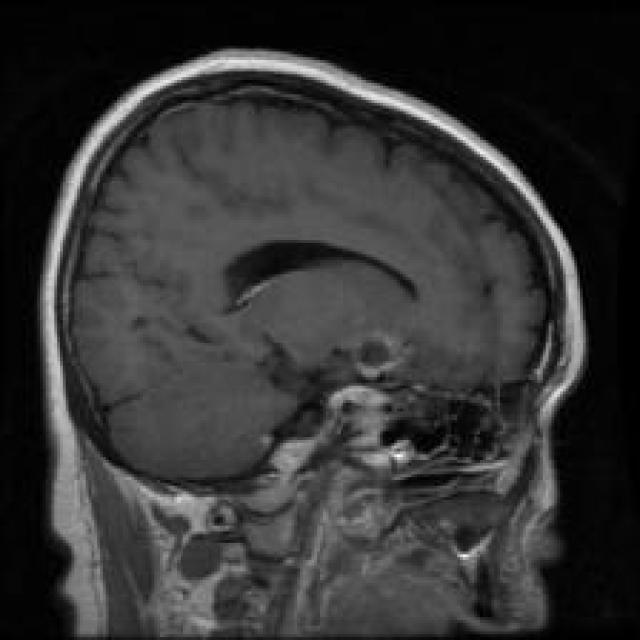pituitary_tumor: (315, 315, 425, 454)
